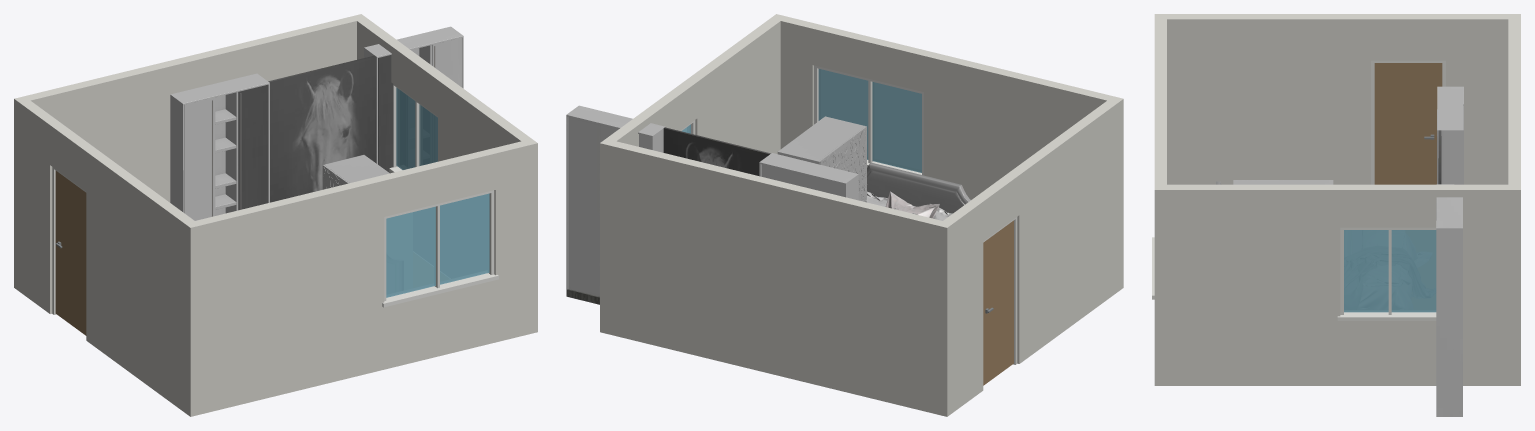
File: instructscene.glb
3 renders of one model, left to right at view 1: azimuth 30°, elevation 25°; view 2: azimuth 150°, elevation 25°; view 3: azimuth 270°, elevation 25°, orthographic. The views are drawn at different scales.
Parts seen in each view (by area): view 1: wall|scenesmith_064__R00|0, wall|scenesmith_064__R00|2, raw_model.002, wall|scenesmith_064__R00|1, wall|scenesmith_064__R00|0 Window 0 | glazing, wall|scenesmith_064__R00|3, wall|scenesmith_064__R00|2 Door 0 | wood leaf, wall|scenesmith_064__R00|3 Window 0 | glazing, wall|scenesmith_064__R00|0 Window 0 | jamb, raw_model, wall|scenesmith_064__R00|3 Window 0 | jamb, wall|scenesmith_064__R00|2 Door 0 | jamb; view 2: wall|scenesmith_064__R00|1, wall|scenesmith_064__R00|2, wall|scenesmith_064__R00|0, raw_model.002, wall|scenesmith_064__R00|3, wall|scenesmith_064__R00|0 Window 0 | glazing, wall|scenesmith_064__R00|2 Door 0 | wood leaf, raw_model.001, raw_model, wall|scenesmith_064__R00|0 Window 0 | jamb, wall|scenesmith_064__R00|2 Door 0 | jamb; view 3: wall|scenesmith_064__R00|3, wall|scenesmith_064__R00|2, raw_model.002, wall|scenesmith_064__R00|2 Door 0 | wood leaf, wall|scenesmith_064__R00|3 Window 0 | glazing, wall|scenesmith_064__R00|1, wall|scenesmith_064__R00|0, wall|scenesmith_064__R00|3 Window 0 | jamb, wall|scenesmith_064__R00|2 Door 0 | jamb, raw_model.
Boxes of the visible parts, x1,y1,x2,y2 form: wall|scenesmith_064__R00|0: (195, 140, 537, 414); wall|scenesmith_064__R00|2: (14, 96, 200, 416); raw_model.002: (170, 26, 463, 220); wall|scenesmith_064__R00|1: (14, 14, 366, 291); wall|scenesmith_064__R00|0 Window 0 | glazing: (386, 193, 489, 297); wall|scenesmith_064__R00|3: (357, 18, 536, 161); wall|scenesmith_064__R00|2 Door 0 | wood leaf: (55, 170, 86, 335); wall|scenesmith_064__R00|3 Window 0 | glazing: (396, 87, 437, 169); wall|scenesmith_064__R00|0 Window 0 | jamb: (382, 190, 498, 307); raw_model: (322, 155, 389, 189); wall|scenesmith_064__R00|3 Window 0 | jamb: (389, 84, 437, 172); wall|scenesmith_064__R00|2 Door 0 | jamb: (52, 167, 86, 314); wall|scenesmith_064__R00|1: (600, 139, 953, 416); wall|scenesmith_064__R00|2: (937, 96, 1123, 416); wall|scenesmith_064__R00|0: (770, 14, 1112, 199); raw_model.002: (566, 105, 858, 304); wall|scenesmith_064__R00|3: (606, 14, 785, 154); wall|scenesmith_064__R00|0 Window 0 | glazing: (818, 69, 921, 172); wall|scenesmith_064__R00|2 Door 0 | wood leaf: (983, 220, 1013, 385); raw_model.001: (860, 162, 970, 220); raw_model: (777, 116, 867, 201); wall|scenesmith_064__R00|0 Window 0 | jamb: (814, 65, 923, 175); wall|scenesmith_064__R00|2 Door 0 | jamb: (983, 217, 1017, 364); wall|scenesmith_064__R00|3: (1154, 184, 1508, 385); wall|scenesmith_064__R00|2: (1154, 14, 1520, 184); raw_model.002: (1436, 86, 1463, 416); wall|scenesmith_064__R00|2 Door 0 | wood leaf: (1374, 63, 1442, 184); wall|scenesmith_064__R00|3 Window 0 | glazing: (1344, 230, 1436, 312); wall|scenesmith_064__R00|1: (1508, 19, 1520, 385); wall|scenesmith_064__R00|0: (1154, 19, 1166, 189); wall|scenesmith_064__R00|3 Window 0 | jamb: (1337, 227, 1436, 320); wall|scenesmith_064__R00|2 Door 0 | jamb: (1371, 60, 1445, 184); raw_model: (1233, 180, 1333, 184).
Bounding box in the file's own units: 5.89 × 2.61 × 4.43.
9 materials, 3 textured.
